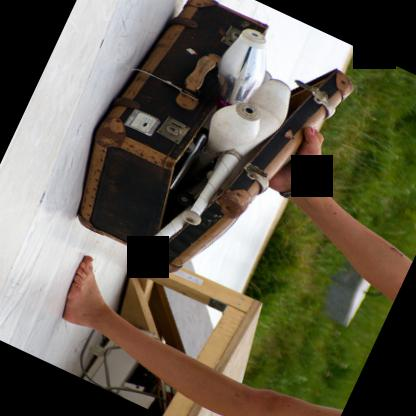suitcase: (73, 0, 354, 273)
